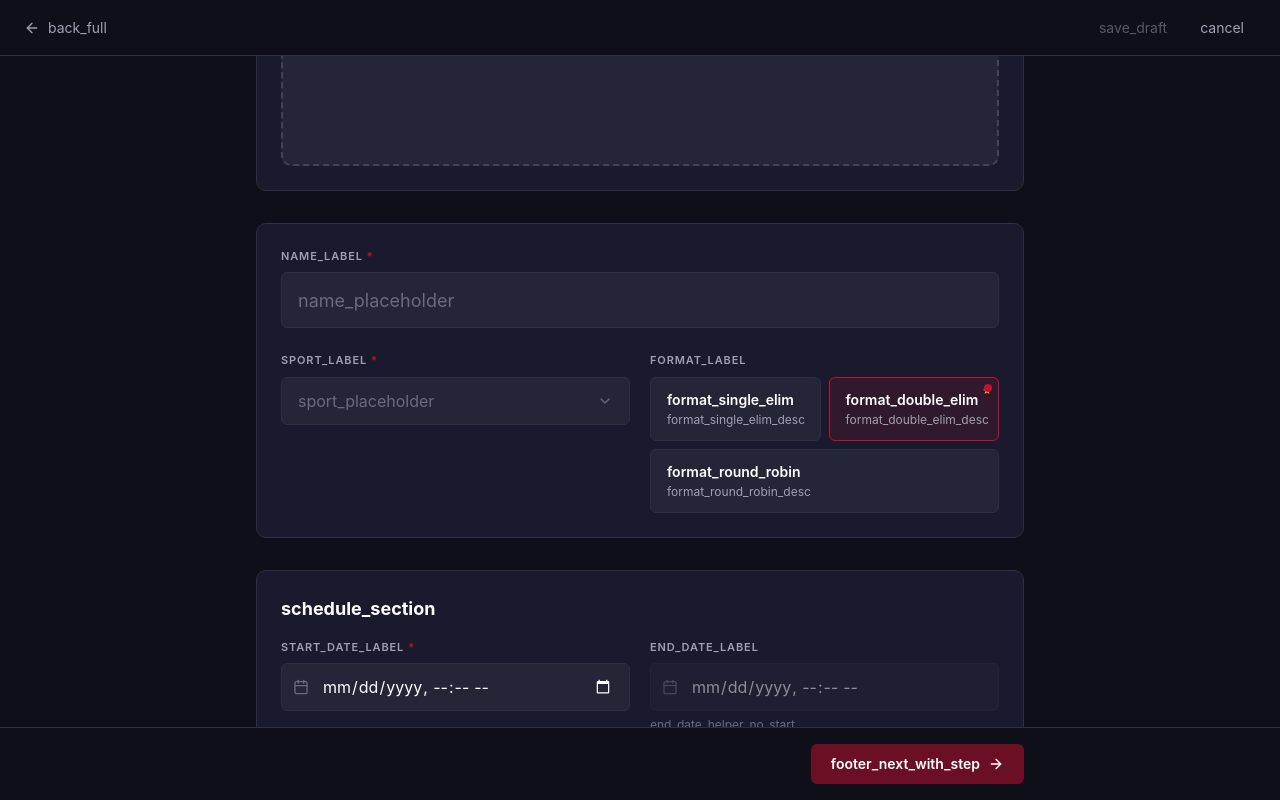
Scenario: NewTournamentPage › opens the sport dropdown on click and lists every mocked sport
This screenshot has width=1280, height=800.
(page scrolled)
// The trigger shows the `sport_placeholder` key when nothing is selected.
Click the button "sport_placeholder" at [366, 401], box [281,377,630,425]
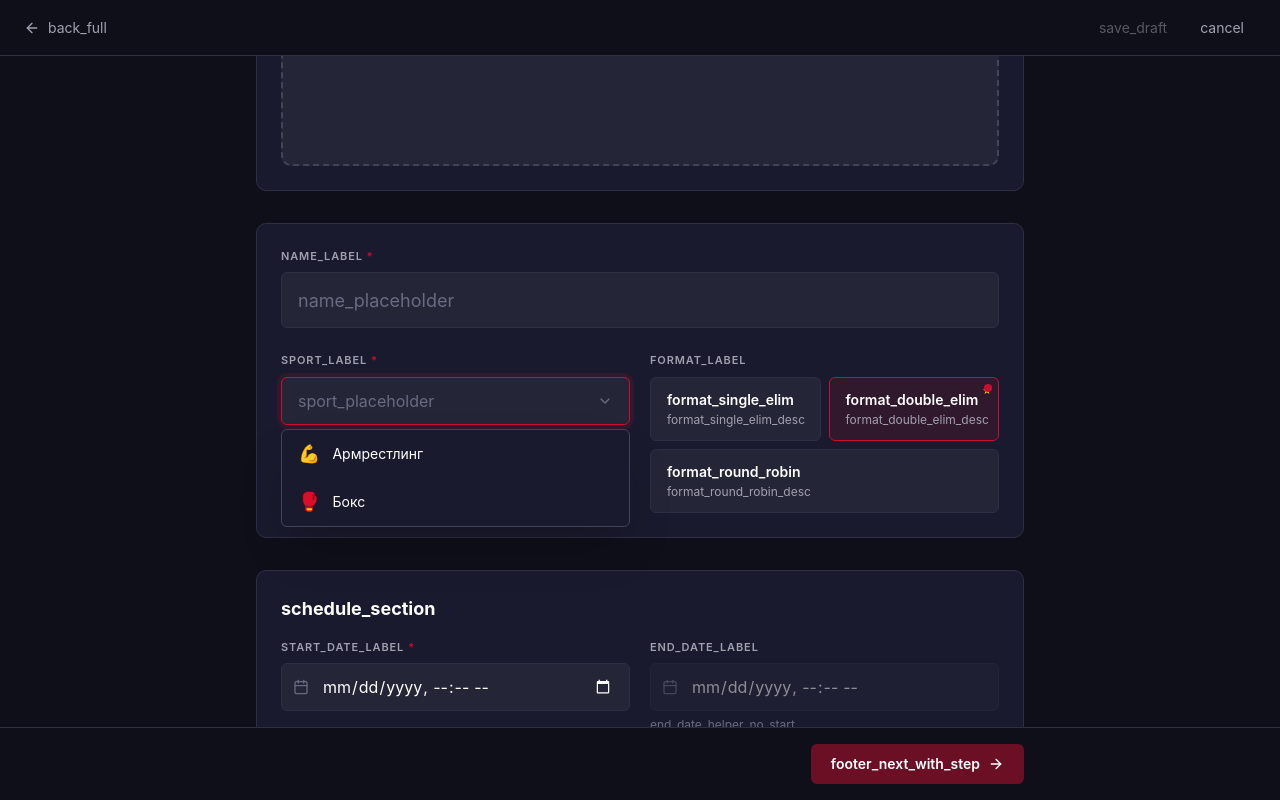
Expected: the text "Армрестлинг" is shown, [332,444,423,464]
Expected: the text "Бокс" is shown, [332,492,365,512]
